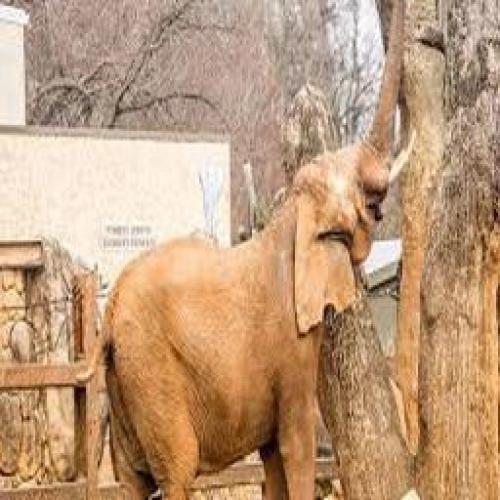african_elephant-endangered: (114, 0, 410, 500)
